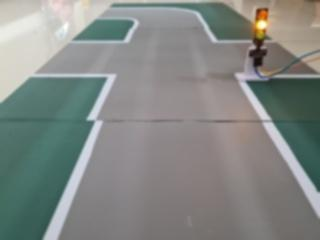yellow: (245, 3, 281, 47)
